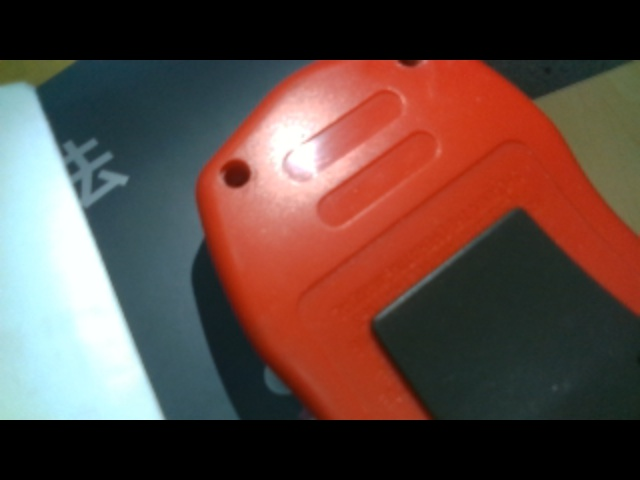Screw holes: (218, 158, 255, 188)
